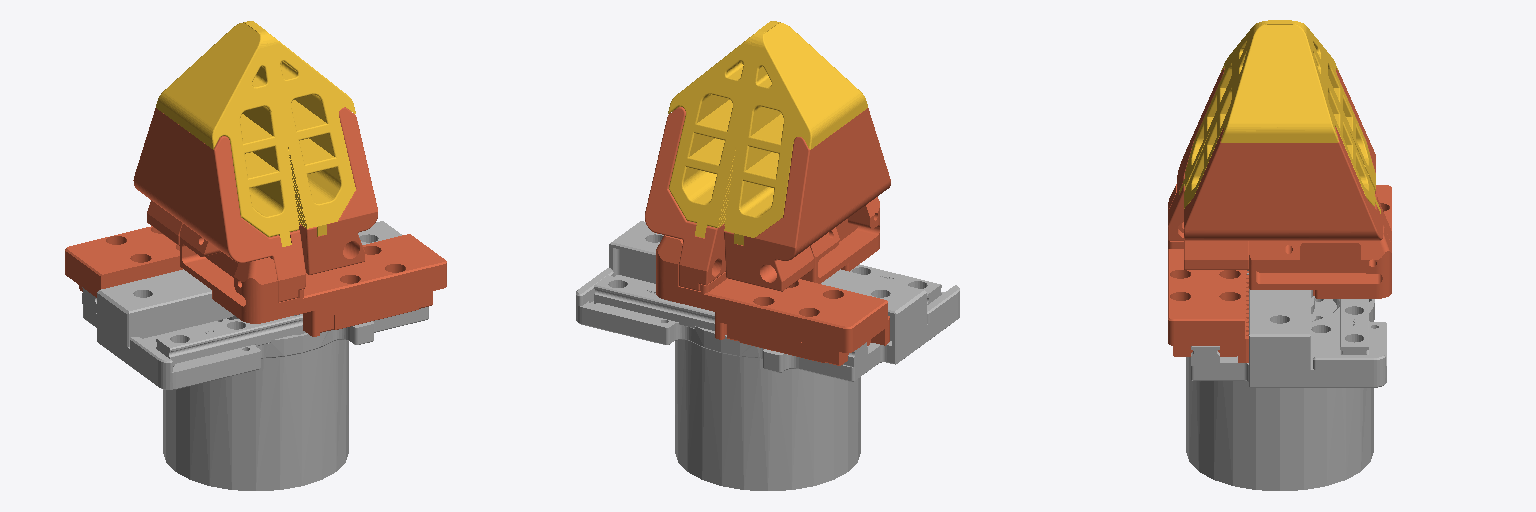
The robot description file, URDF, robot "output":
<?xml version="1.0" ?>
<!-- Generated using onshape-to-robot -->
<!-- Onshape document_id: f945e2d475a1f55bbde9dcca -->
<robot name="output">
  <!-- Link base -->
  <link name="base">
    <inertial>
      <origin xyz="-5.80059e-09 3.62593e-09 0.0295286" rpy="0 0 0"/>
      <mass value="0.455645"/>
      <inertia ixx="0.000236578" ixy="-5.2921e-06" ixz="7.02366e-11" iyy="0.000293432" iyz="-4.41685e-11" izz="0.000264694"/>
    </inertial>
    <!-- Part base -->
    <visual>
      <origin xyz="0 -3.46945e-18 0" rpy="0 -0 9.19811e-32"/>
      <geometry>
        <mesh filename="assets/base.stl"/>
      </geometry>
      <material name="base_material">
        <color rgba="0.74902 0.74902 0.74902 1"/>
      </material>
    </visual>
    <collision>
      <origin xyz="0 -3.46945e-18 0" rpy="0 -0 9.19811e-32"/>
      <geometry>
        <mesh filename="assets/base.stl"/>
      </geometry>
    </collision>
  </link>
  <!-- Link linear_module -->
  <link name="linear_module">
    <inertial>
      <origin xyz="0.0206066 0.0299426 -0.0504181" rpy="0 0 0"/>
      <mass value="0.120713"/>
      <inertia ixx="8.15537e-05" ixy="-1.49917e-05" ixz="1.35255e-05" iyy="6.63359e-05" iyz="2.21256e-05" izz="8.06405e-05"/>
    </inertial>
    <!-- Part linear_module -->
    <visual>
      <origin xyz="0.00406876 0.0123 -0.0209218" rpy="-1.5708 -1.5708 0"/>
      <geometry>
        <mesh filename="assets/linear_module.stl"/>
      </geometry>
      <material name="linear_module_material">
        <color rgba="0.87451 0.447059 0.317647 1"/>
      </material>
    </visual>
    <collision>
      <origin xyz="0.00406876 0.0123 -0.0209218" rpy="-1.5708 -1.5708 0"/>
      <geometry>
        <mesh filename="assets/linear_module.stl"/>
      </geometry>
    </collision>
    <!-- Part soft_tips -->
    <visual>
      <origin xyz="0.006 0.00575867 -0.0451883" rpy="-1.5708 -1.5708 0"/>
      <geometry>
        <mesh filename="assets/soft_tips.stl"/>
      </geometry>
      <material name="soft_tips_material">
        <color rgba="0.980392 0.796078 0.262745 1"/>
      </material>
    </visual>
    <collision>
      <origin xyz="0.006 0.00575867 -0.0451883" rpy="-1.5708 -1.5708 0"/>
      <geometry>
        <mesh filename="assets/soft_tips.stl"/>
      </geometry>
    </collision>
  </link>
  <!-- Joint from base to linear_module -->
  <joint name="tip1" type="prismatic">
    <origin xyz="0.04395 -0.02615 0.0547" rpy="1.5708 -1.58555e-76 1.5708"/>
    <parent link="base"/>
    <child link="linear_module"/>
    <axis xyz="0 0 1"/>
    <limit effort="10" velocity="10" lower="-0.0475" upper="3.46945e-18"/>
  </joint>
  <!-- Link linear_module_2 -->
  <link name="linear_module_2">
    <inertial>
      <origin xyz="0.0206066 0.0299426 -0.0504181" rpy="0 0 0"/>
      <mass value="0.120713"/>
      <inertia ixx="8.15537e-05" ixy="-1.49917e-05" ixz="1.35255e-05" iyy="6.63359e-05" iyz="2.21256e-05" izz="8.06405e-05"/>
    </inertial>
    <!-- Part soft_tips_2 -->
    <visual>
      <origin xyz="0.006 0.00575867 -0.0451883" rpy="-1.5708 -1.5708 0"/>
      <geometry>
        <mesh filename="assets/soft_tips.stl"/>
      </geometry>
      <material name="soft_tips_2_material">
        <color rgba="0.980392 0.796078 0.262745 1"/>
      </material>
    </visual>
    <collision>
      <origin xyz="0.006 0.00575867 -0.0451883" rpy="-1.5708 -1.5708 0"/>
      <geometry>
        <mesh filename="assets/soft_tips.stl"/>
      </geometry>
    </collision>
    <!-- Part linear_module_2 -->
    <visual>
      <origin xyz="0.00406876 0.0123 -0.0209218" rpy="-1.5708 -1.5708 0"/>
      <geometry>
        <mesh filename="assets/linear_module.stl"/>
      </geometry>
      <material name="linear_module_2_material">
        <color rgba="0.87451 0.447059 0.317647 1"/>
      </material>
    </visual>
    <collision>
      <origin xyz="0.00406876 0.0123 -0.0209218" rpy="-1.5708 -1.5708 0"/>
      <geometry>
        <mesh filename="assets/linear_module.stl"/>
      </geometry>
    </collision>
  </link>
  <!-- Joint from base to linear_module_2 -->
  <joint name="tip2" type="prismatic">
    <origin xyz="-0.04395 0.02615 0.0547" rpy="1.5708 3.82473e-48 -1.5708"/>
    <parent link="base"/>
    <child link="linear_module_2"/>
    <axis xyz="0 0 1"/>
    <limit effort="10" velocity="10" lower="-0.0475" upper="2.42861e-17"/>
  </joint>
</robot>

--- Facts derived from the render (not from the file) ---
The picture shows the robot from 3 angles, left to right: view 1: azimuth 30°, elevation 25°; view 2: azimuth 150°, elevation 25°; view 3: azimuth 270°, elevation 25°; orthographic projection.
Model output with 3 links and 2 joints (2 prismatic), rooted at base, posed all joints at 0.
Links seen in each view (by area): view 1: linear_module, base, linear_module_2; view 2: base, linear_module, linear_module_2; view 3: linear_module_2, base, linear_module.
Link boxes in pixels (<box>): linear_module: <box>133,21,446,336</box>; base: <box>82,221,428,490</box>; linear_module_2: <box>65,21,377,297</box>; base: <box>576,221,959,490</box>; linear_module: <box>724,21,890,291</box>; linear_module_2: <box>645,21,889,365</box>; linear_module_2: <box>1184,20,1391,298</box>; base: <box>1186,270,1386,490</box>; linear_module: <box>1168,21,1375,362</box>.
Size in the robot's own frame: 0.102 by 0.0683 by 0.144 metres.
5 mesh visuals loaded from 3 distinct referenced files (3 binary STL).
